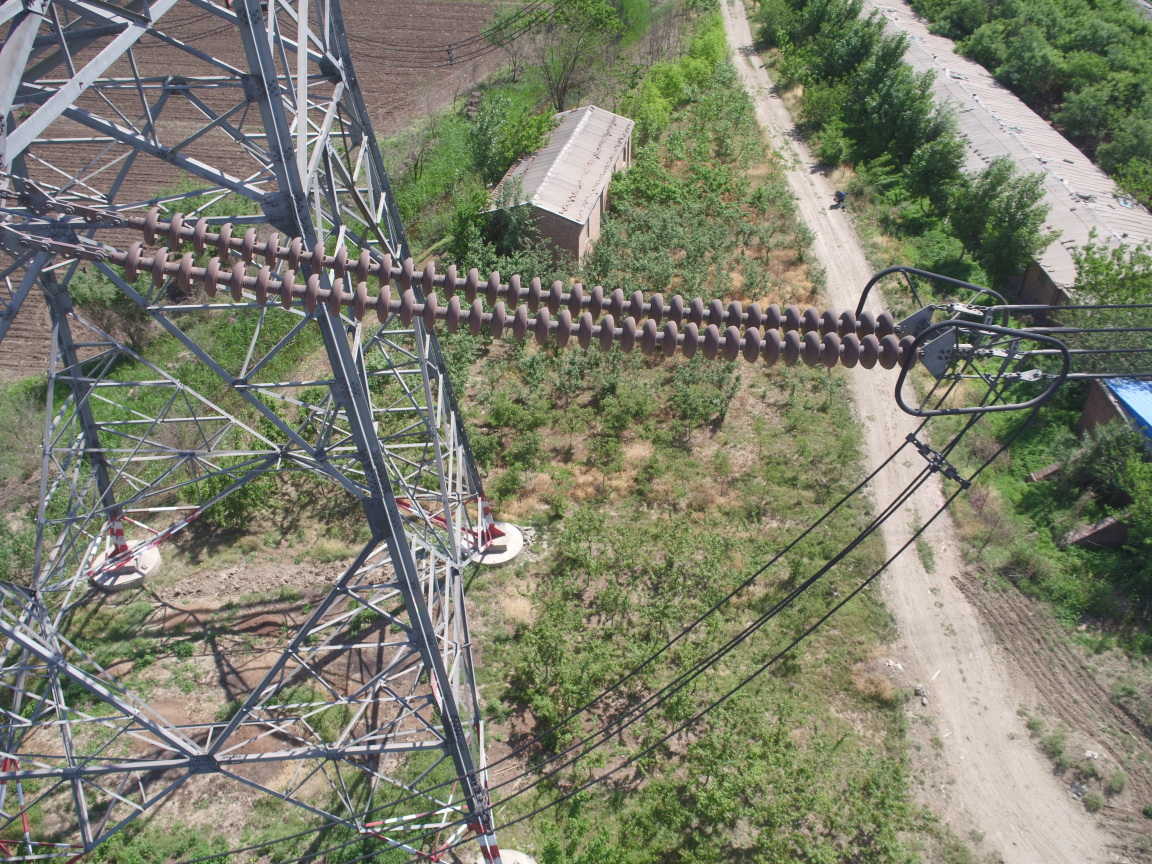insulator: (72, 202, 933, 375)
